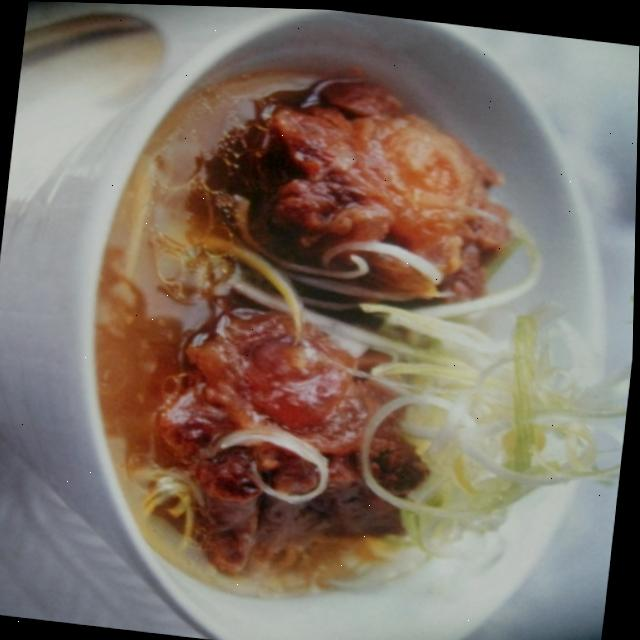汤锅炖物: (47, 14, 623, 640)
